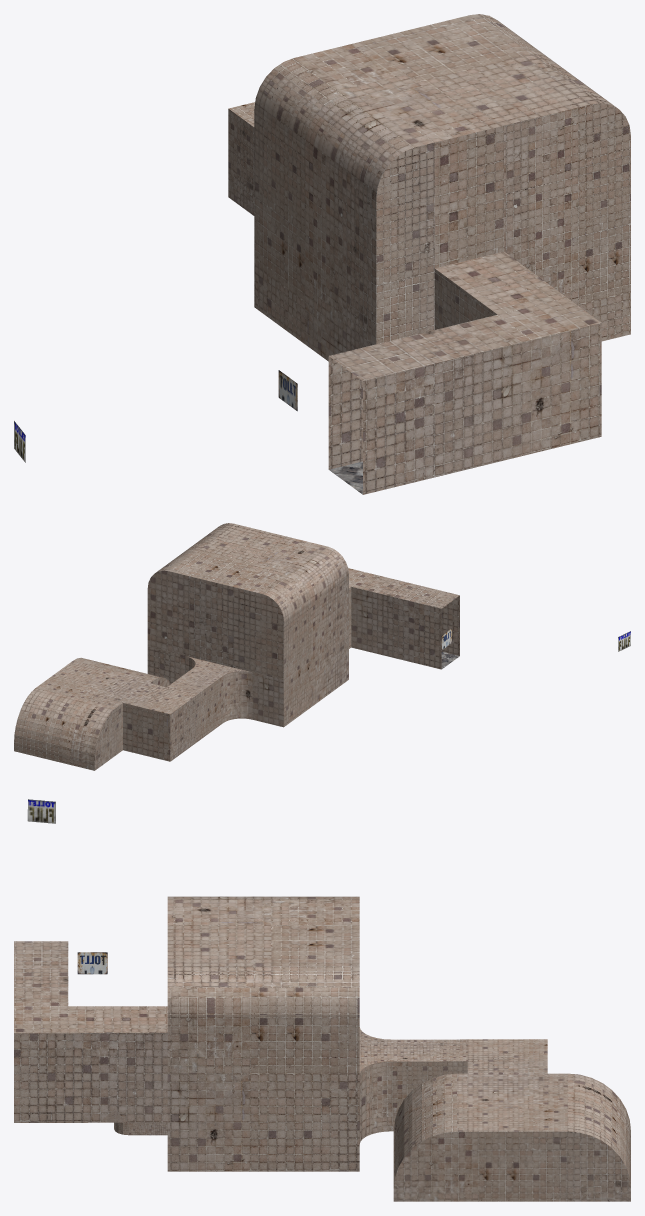
File: SM_Scene_A_Toilettes00.fbx
3 views of the same model, one above another, from view 1: azimuth 30°, elevation 25°; view 2: azimuth 150°, elevation 25°; view 3: azimuth 270°, elevation 25° (orthographic). The views are drawn at different scales.
Parts seen in each view (by area): view 1: SM_Scene_A_Toilettes00; view 2: SM_Scene_A_Toilettes00; view 3: SM_Scene_A_Toilettes00.
Part boxes in pixels (box(x1,y1,x2,y2)): SM_Scene_A_Toilettes00: box(14, 14, 630, 494); SM_Scene_A_Toilettes00: box(14, 523, 630, 770); SM_Scene_A_Toilettes00: box(14, 799, 630, 1201).
Size of the model in its own units: 3019 by 954 by 2650.
